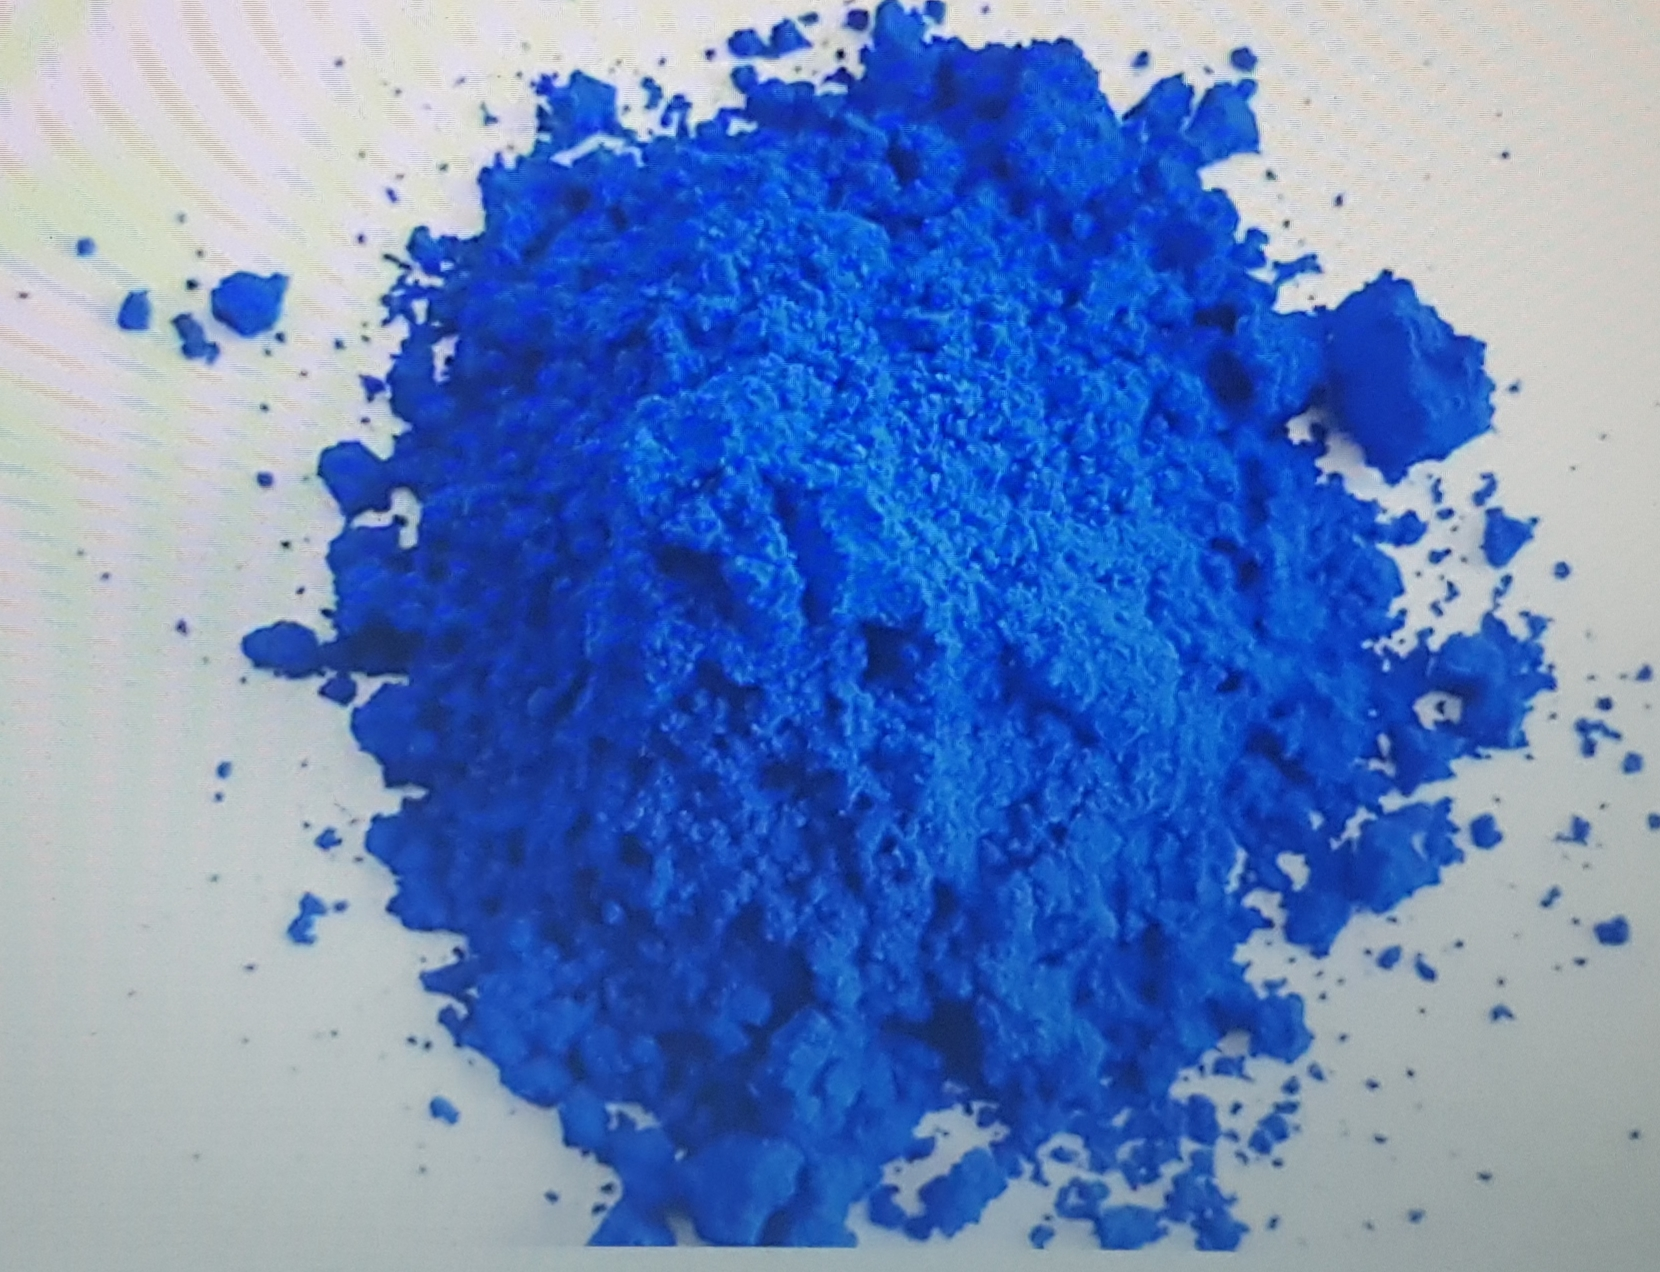Blue: (322, 17, 1583, 1261)
